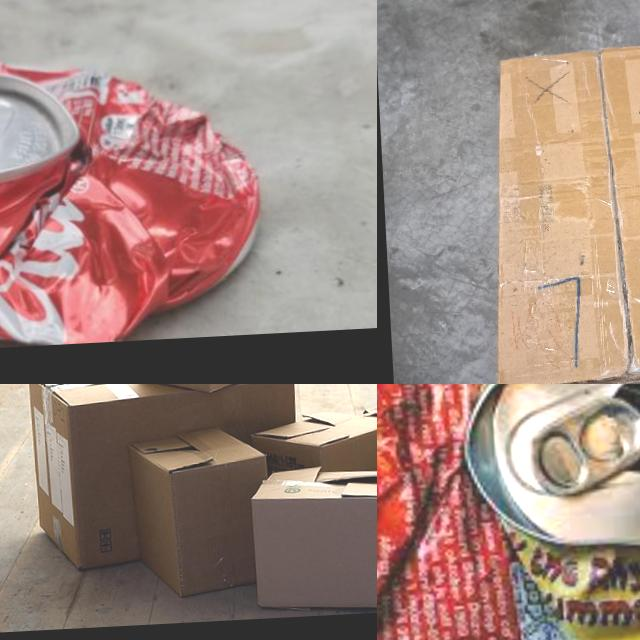aba de lata: (525, 393, 640, 497)
lata: (0, 49, 267, 358), (377, 384, 640, 640)
papelão: (479, 35, 640, 384), (29, 384, 305, 574), (126, 425, 274, 603), (248, 463, 377, 615), (250, 407, 377, 477)
